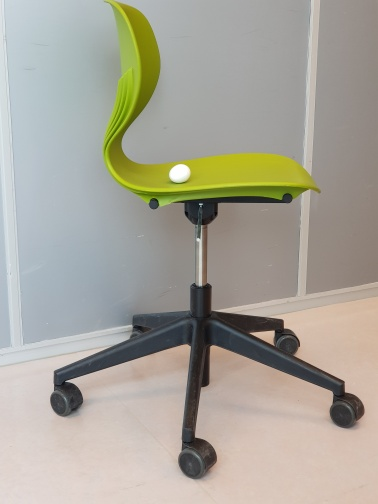egg: (167, 162, 192, 184)
